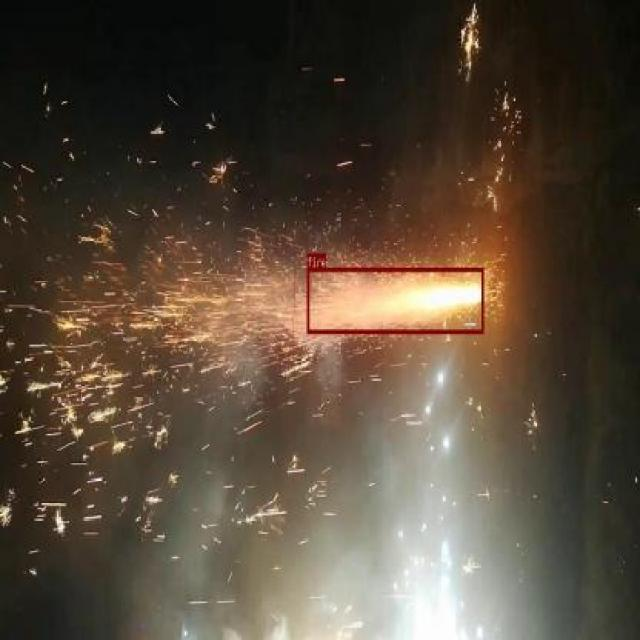Fire: (306, 267, 483, 333)
